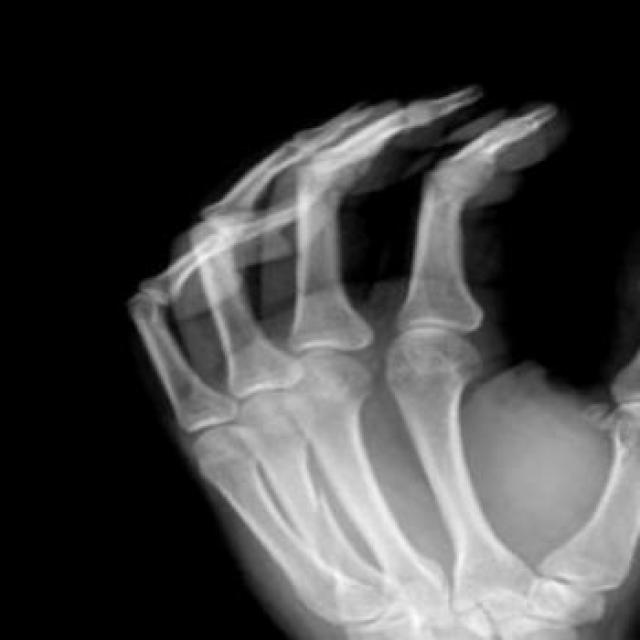Fracture: (296, 477, 340, 543)
